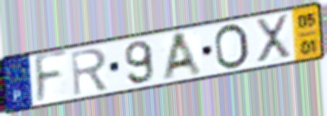9: (123, 40, 157, 86)
A: (161, 29, 206, 81)
F: (33, 48, 70, 108)
O: (212, 22, 252, 72)
R: (69, 46, 110, 98)
X: (254, 12, 293, 64)
